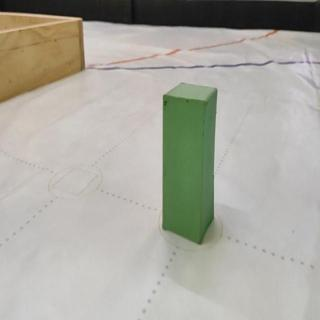greenbox: (161, 81, 220, 246)
